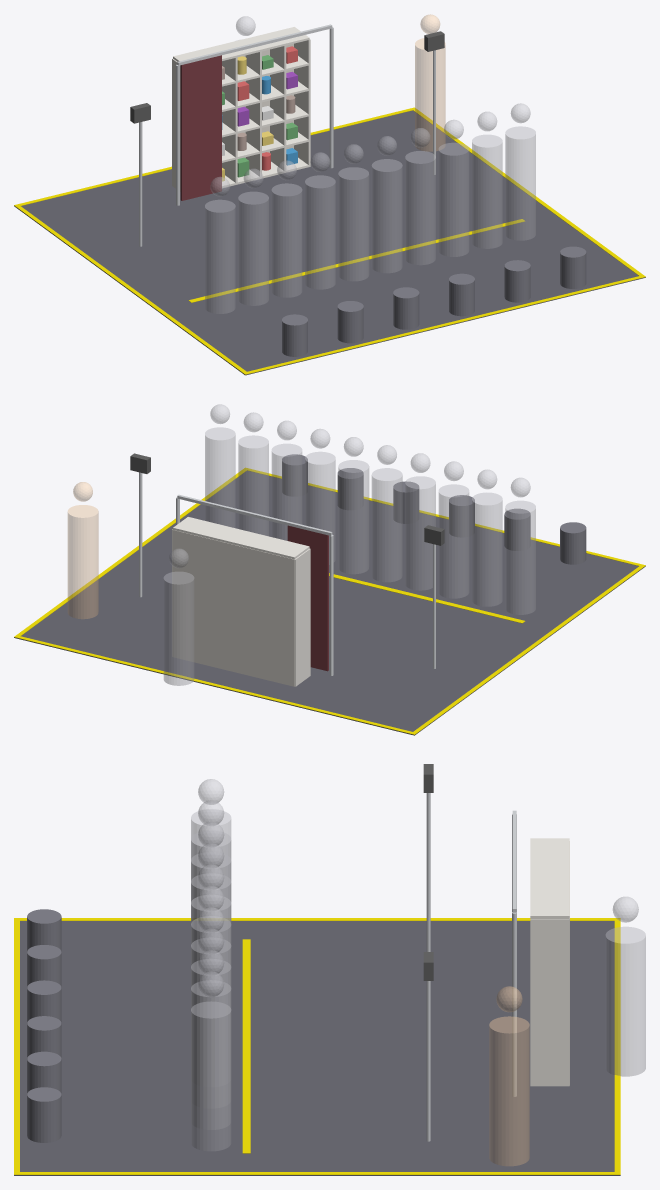
File: G07_WITNESS.glb
The picture shows the model from 3 angles, top to bottom: view 1: azimuth 30°, elevation 25°; view 2: azimuth 150°, elevation 25°; view 3: azimuth 270°, elevation 25°; orthographic projection. The views are drawn at different scales.
Visible parts, largest first — view 1: floor_area, curtain_panel_left, player_2_body, player_4_body, player_5_body, player_7_body, player_1_body, player_3_body, player_8_body, player_9_body, player_0_body, player_6_body (+26 smaller); view 2: floor_area, shelf_back, assistant_backstage_body, player_4_body, operator_body, player_5_body, player_2_body, player_0_body, player_1_body, player_3_body, curtain_panel_left, player_8_body (+19 smaller); view 3: floor_area, shelf_v_5, operator_body, player_9_body, assistant_backstage_body, player_8_body, shelf_h_5, answer_line, spectator_stool_5, safety_border_e, safety_border_n, safety_border_s (+17 smaller).
Part boxes in pixels (bbox=[...]): floor_area: bbox=[14, 110, 645, 375]; curtain_panel_left: bbox=[180, 55, 221, 200]; player_2_body: bbox=[271, 183, 302, 297]; player_4_body: bbox=[338, 167, 369, 281]; player_5_body: bbox=[371, 159, 402, 273]; player_7_body: bbox=[438, 142, 469, 256]; player_1_body: bbox=[238, 191, 268, 305]; player_3_body: bbox=[305, 175, 335, 289]; player_8_body: bbox=[472, 134, 502, 248]; player_9_body: bbox=[505, 126, 535, 240]; player_0_body: bbox=[205, 199, 235, 313]; player_6_body: bbox=[405, 151, 435, 265]; floor_area: bbox=[14, 470, 645, 735]; shelf_back: bbox=[173, 530, 294, 686]; assistant_backstage_body: bbox=[163, 571, 194, 685]; player_4_body: bbox=[371, 468, 402, 582]; operator_body: bbox=[67, 505, 98, 619]; player_5_body: bbox=[338, 460, 369, 574]; player_2_body: bbox=[438, 484, 469, 598]; player_0_body: bbox=[505, 500, 535, 614]; player_1_body: bbox=[472, 492, 502, 606]; player_3_body: bbox=[405, 476, 435, 590]; curtain_panel_left: bbox=[287, 525, 328, 671]; player_8_body: bbox=[238, 435, 268, 536]; floor_area: bbox=[14, 921, 620, 1175]; shelf_v_5: bbox=[530, 919, 569, 1086]; operator_body: bbox=[489, 1016, 529, 1166]; player_9_body: bbox=[191, 1001, 231, 1151]; assistant_backstage_body: bbox=[605, 926, 645, 1076]; player_8_body: bbox=[191, 980, 231, 1129]; shelf_h_5: bbox=[530, 838, 569, 918]; answer_line: bbox=[242, 939, 250, 1153]; spectator_stool_5: bbox=[27, 1087, 61, 1142]; safety_border_e: bbox=[14, 1172, 620, 1174]; safety_border_n: bbox=[614, 918, 620, 1174]; safety_border_s: bbox=[14, 918, 19, 1174].
Size of the model in its own units: 6 by 2.05 by 6.25.
